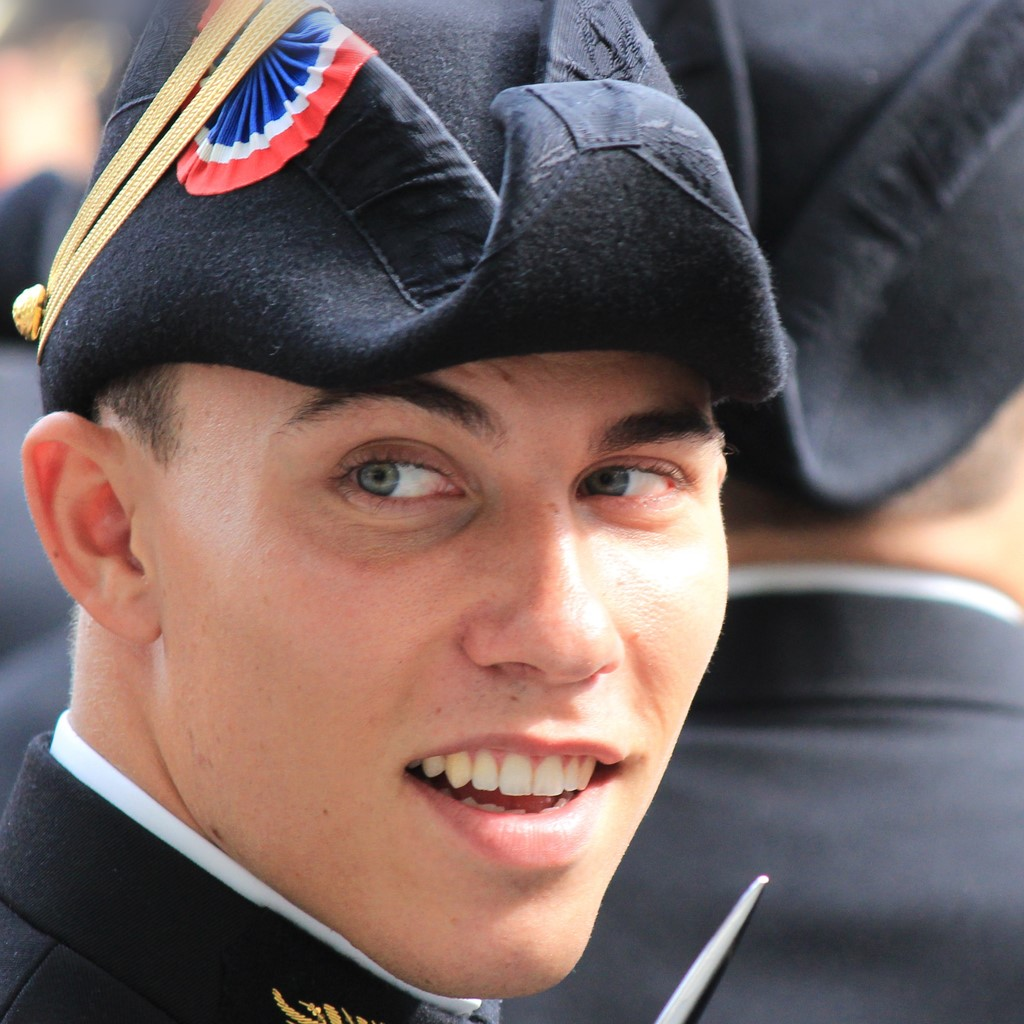sin_mascara: (48, 102, 726, 1011)
